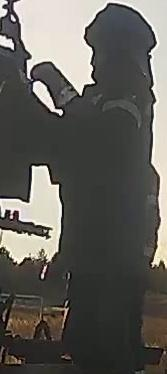gloves: (30, 61, 80, 108)
vest: (74, 81, 157, 277)
